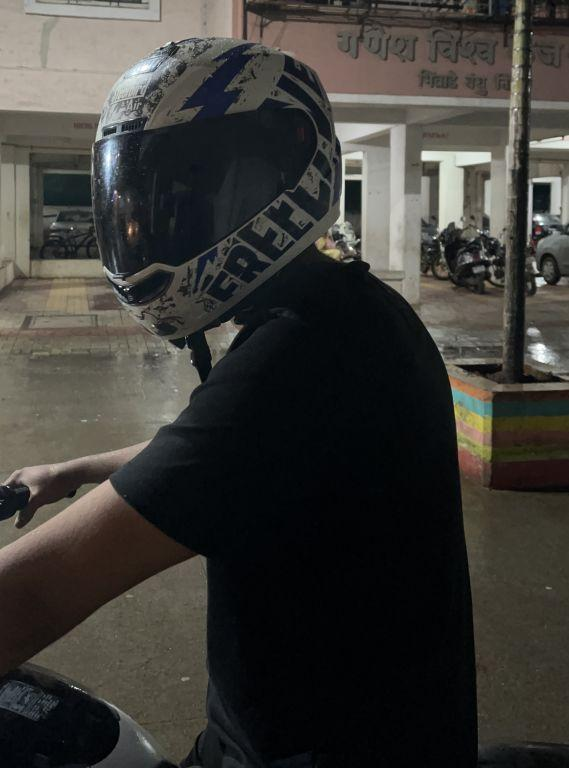helmet: (72, 24, 347, 348)
